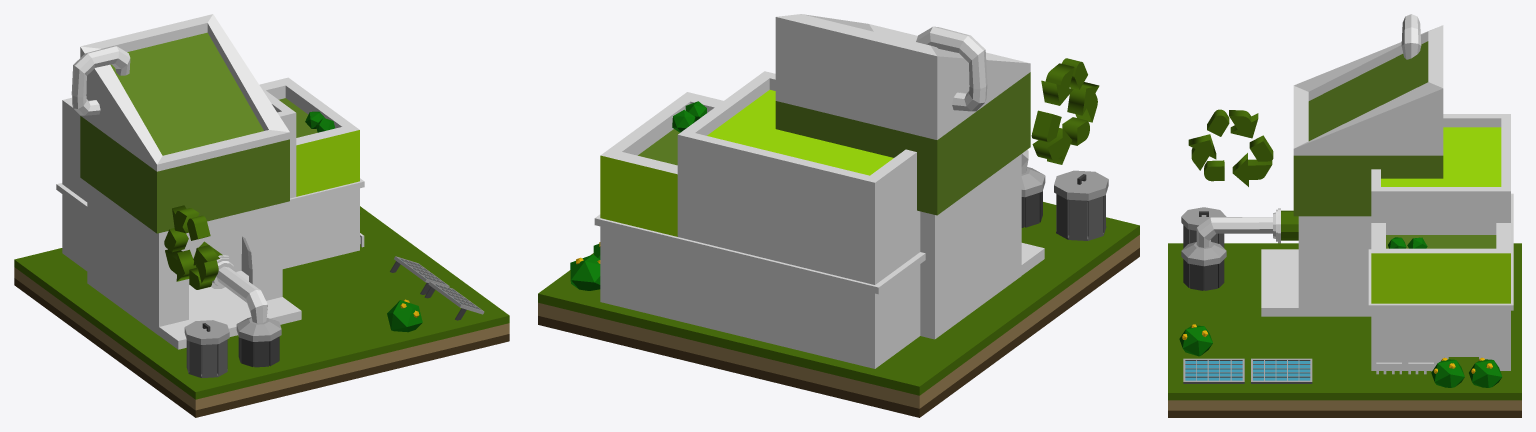
The model's file is recycle center.fbx.
3 views of the same model, side by side, from view 1: azimuth 30°, elevation 25°; view 2: azimuth 150°, elevation 25°; view 3: azimuth 270°, elevation 25° (orthographic). The views are drawn at different scales.
Visible parts, largest first — view 1: Cube.017, park ground.001, Cube.026, Cube.027, recylce icon, Cylinder.002, Cylinder.004, trash.001, trash, Cylinder.003, flowr bush, Cube.029 (+1 smaller); view 2: Cube.026, Cube.017, park ground.001, recylce icon, Cylinder.004, trash.001, Cylinder.003, flower bush.002, Cylinder.002, trash, Cube.027; view 3: Cube.026, park ground.001, Cube.017, recylce icon, Cube.027, Cylinder.002, Cube.029, Cube.033, trash, Circle.020, Cylinder.004, flowr bush (+5 smaller).
Part boxes in pixels (x1,y1,x2,y2): Cube.017: [80, 14, 289, 335]; park ground.001: [14, 206, 509, 417]; Cube.026: [56, 77, 364, 271]; Cube.027: [159, 270, 301, 349]; recylce icon: [164, 205, 219, 289]; Cylinder.002: [216, 266, 281, 341]; Cylinder.004: [71, 46, 130, 115]; trash.001: [186, 339, 227, 377]; trash: [238, 336, 279, 367]; Cylinder.003: [184, 320, 229, 344]; flowr bush: [387, 300, 422, 332]; Cube.029: [428, 281, 484, 314]; Cube.026: [594, 71, 925, 368]; Cube.017: [775, 14, 1030, 339]; park ground.001: [538, 202, 1139, 417]; recylce icon: [1031, 58, 1099, 164]; Cylinder.004: [916, 26, 987, 111]; trash.001: [1056, 194, 1106, 240]; Cylinder.003: [1054, 170, 1108, 200]; flower bush.002: [570, 254, 600, 290]; Cylinder.002: [1021, 150, 1045, 197]; trash: [1021, 191, 1042, 227]; Cube.027: [1021, 243, 1044, 275]; Cube.026: [1368, 114, 1513, 370]; park ground.001: [1168, 243, 1521, 417]; Cube.017: [1293, 25, 1443, 316]; recylce icon: [1188, 109, 1273, 186]; Cube.027: [1261, 249, 1298, 316]; Cylinder.002: [1181, 217, 1272, 266]; Cube.029: [1183, 358, 1244, 383]; Cube.033: [1251, 358, 1312, 383]; trash: [1183, 259, 1224, 290]; Circle.020: [1273, 208, 1298, 243]; Cylinder.004: [1401, 14, 1421, 59]; flowr bush: [1179, 325, 1212, 356].
Bounding box in the file's own units: 396 × 324 × 396.
